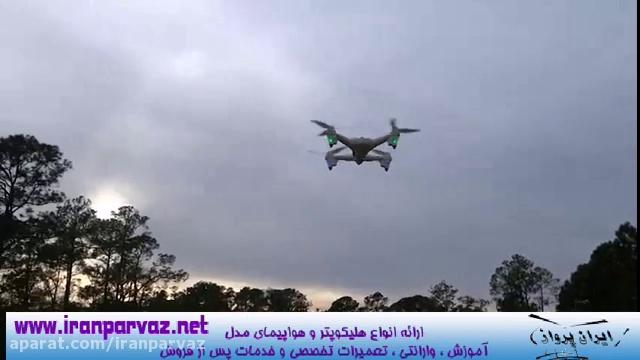drone: (301, 113, 424, 173)
